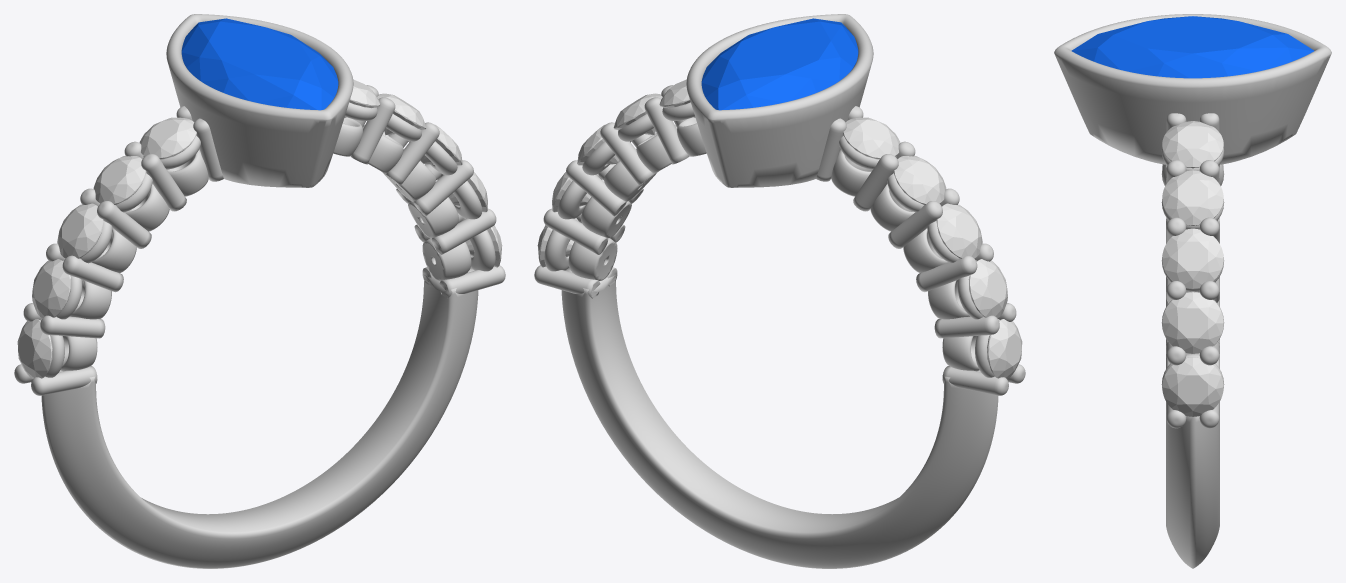
File: bluesapphire-marquise-platinum-bezelset-knifeedge-11stone.glb
The picture shows the model from 3 angles, left to right: view 1: azimuth 30°, elevation 25°; view 2: azimuth 150°, elevation 25°; view 3: azimuth 270°, elevation 25°; orthographic projection.
Visible parts, largest first — view 1: metal.002, stone.002, side.022, side.023, side.021, side.024, side.020, side.028; view 2: metal.002, stone.002, side.022, side.023, side.021, side.024, side.020, side.028; view 3: metal.002, stone.002, side.026, side.027, side.025, side.028, side.029.
Boxes of the visible parts, box(x1,y1,x2,y2) form: metal.002: box(14, 14, 505, 568); stone.002: box(181, 18, 338, 110); side.022: box(57, 203, 103, 258); side.023: box(93, 156, 146, 204); side.021: box(32, 259, 70, 318); side.024: box(139, 117, 196, 159); side.020: box(17, 319, 52, 378); side.028: box(377, 93, 426, 135); metal.002: box(534, 14, 1025, 568); stone.002: box(701, 18, 858, 110); side.022: box(936, 203, 982, 258); side.023: box(893, 156, 946, 204); side.021: box(968, 259, 1007, 318); side.024: box(843, 117, 900, 159); side.020: box(987, 319, 1022, 378); side.028: box(613, 93, 662, 135); metal.002: box(1054, 14, 1331, 568); stone.002: box(1071, 16, 1314, 78); side.026: box(1162, 292, 1223, 353); side.027: box(1162, 228, 1223, 288); side.025: box(1162, 357, 1223, 416); side.028: box(1162, 170, 1223, 225); side.029: box(1162, 121, 1223, 168).
Size of the model in its own units: 22.1 by 22.93 by 11.31.
